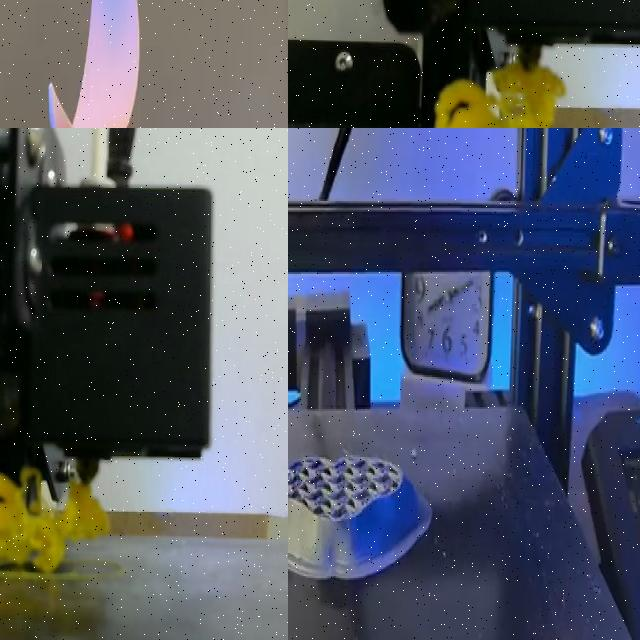spaghetti: (0, 466, 109, 572), (434, 62, 566, 128)
